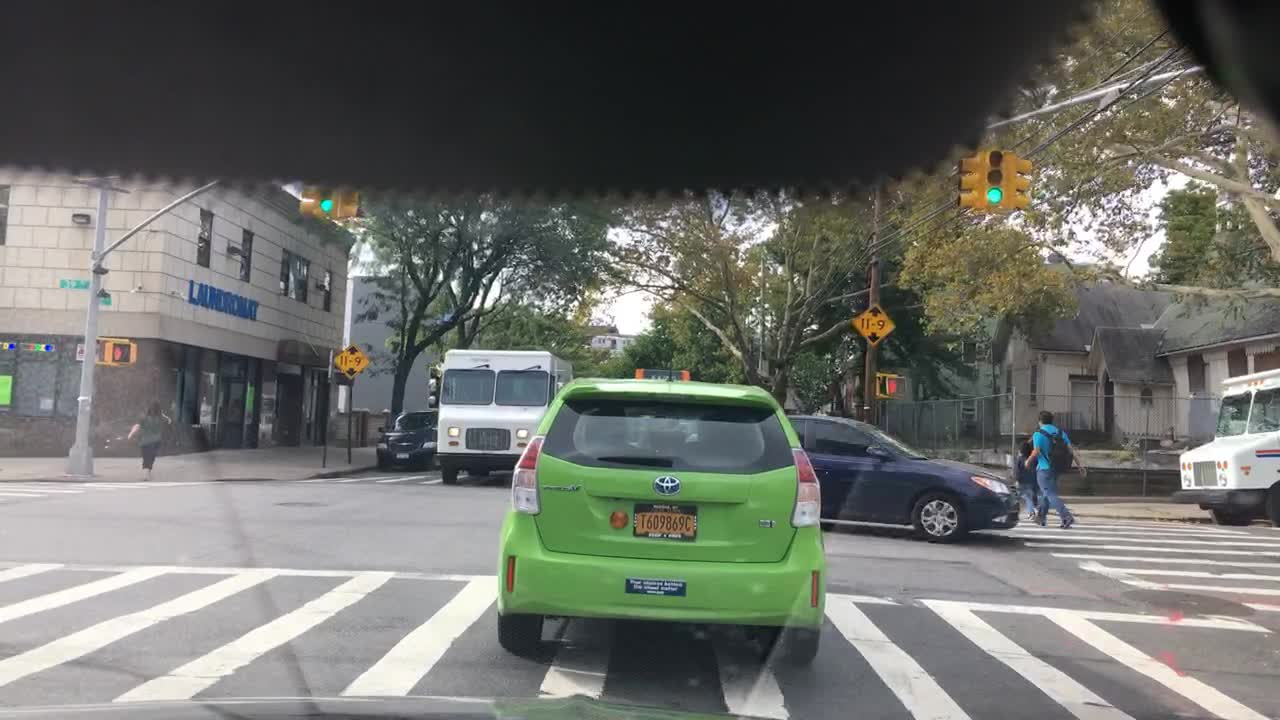bus: (426, 348, 574, 482)
car: (496, 366, 826, 664), (782, 411, 1021, 541), (376, 410, 437, 470)
person: (1022, 408, 1084, 528), (128, 400, 173, 479), (1010, 438, 1038, 522)
traffic light: (982, 149, 1006, 210), (1009, 151, 1031, 210), (958, 154, 980, 209), (335, 179, 362, 222), (297, 179, 317, 222), (103, 339, 135, 365), (316, 179, 335, 220), (875, 373, 903, 396)
traffic sign: (851, 305, 894, 345), (333, 345, 370, 382), (59, 278, 89, 287), (96, 294, 111, 306)
truck: (1178, 366, 1279, 525)
